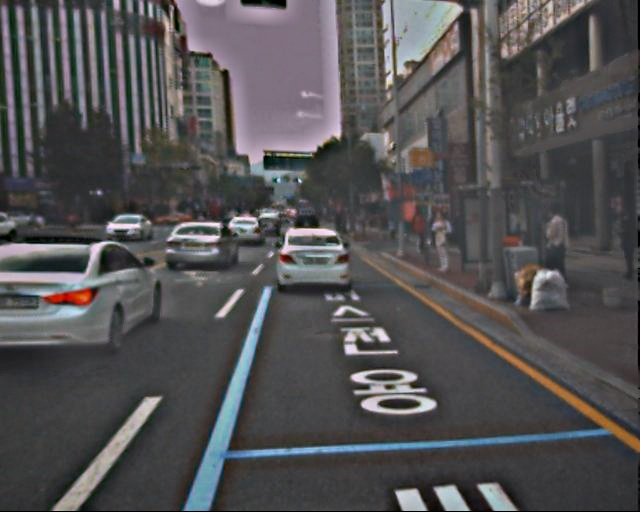person: (539, 202, 578, 297), (611, 209, 640, 283), (430, 208, 455, 270), (411, 206, 430, 253)
